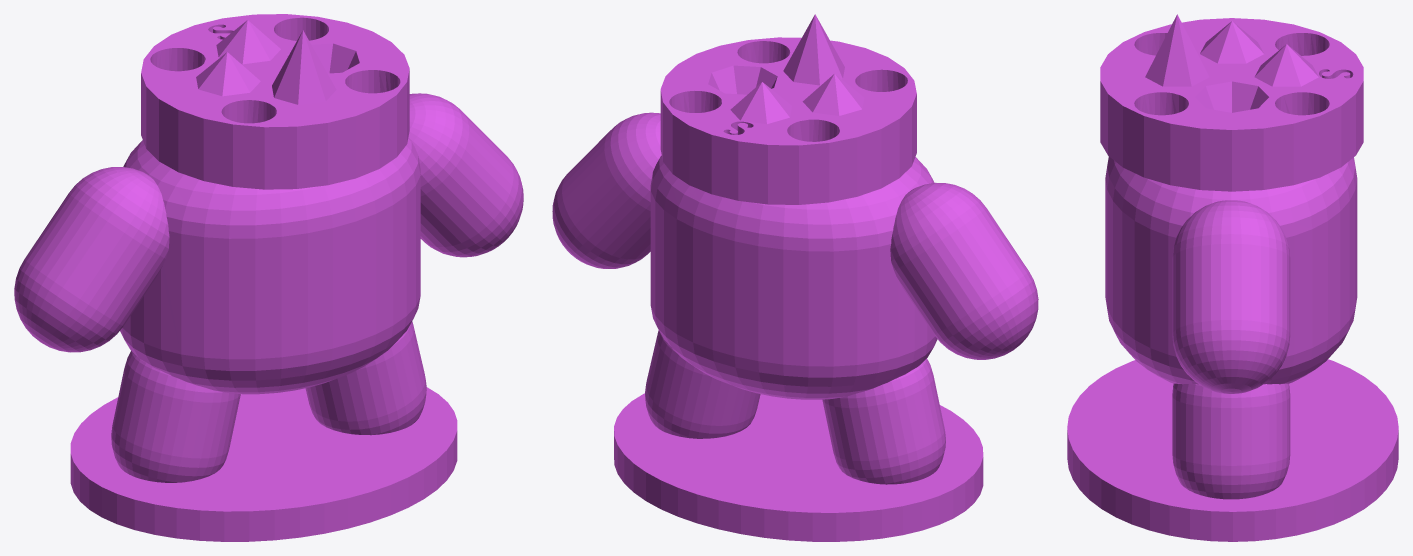
3 renders of one model, left to right at view 1: azimuth 30°, elevation 25°; view 2: azimuth 150°, elevation 25°; view 3: azimuth 270°, elevation 25°, orthographic. The views are drawn at different scales.
Parts seen in each view (by area): view 1: Simple Self Assembly (1); view 2: Simple Self Assembly (1); view 3: Simple Self Assembly (1).
Part boxes in pixels (x1,y1,x2,y2): Simple Self Assembly (1): [14, 14, 523, 541]; Simple Self Assembly (1): [552, 14, 1038, 541]; Simple Self Assembly (1): [1067, 14, 1398, 541].
Size of the model in its own units: 33.93 by 29.9 by 20.
